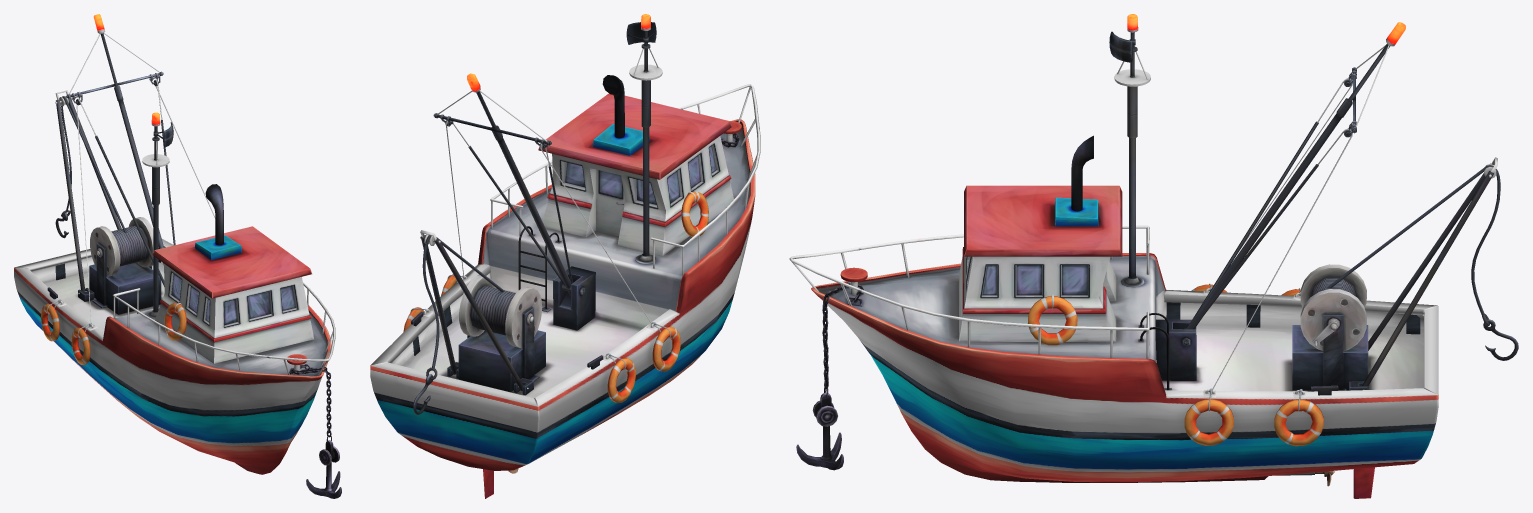
Rendered from FishingBoat.dae.
The picture shows the model from 3 angles, left to right: view 1: azimuth 30°, elevation 25°; view 2: azimuth 150°, elevation 25°; view 3: azimuth 270°, elevation 25°; orthographic projection. The views are drawn at different scales.
Parts seen in each view (by area): view 1: fishing_boat (×2); view 2: fishing_boat (×2); view 3: fishing_boat (×2).
Part boxes in pixels (bbox=[...]): fishing_boat (×2): bbox=[14, 14, 341, 498]; fishing_boat (×2): bbox=[370, 14, 760, 498]; fishing_boat (×2): bbox=[789, 14, 1518, 498].
Bounding box in the file's own units: 13.18 × 24.29 × 33.78.
